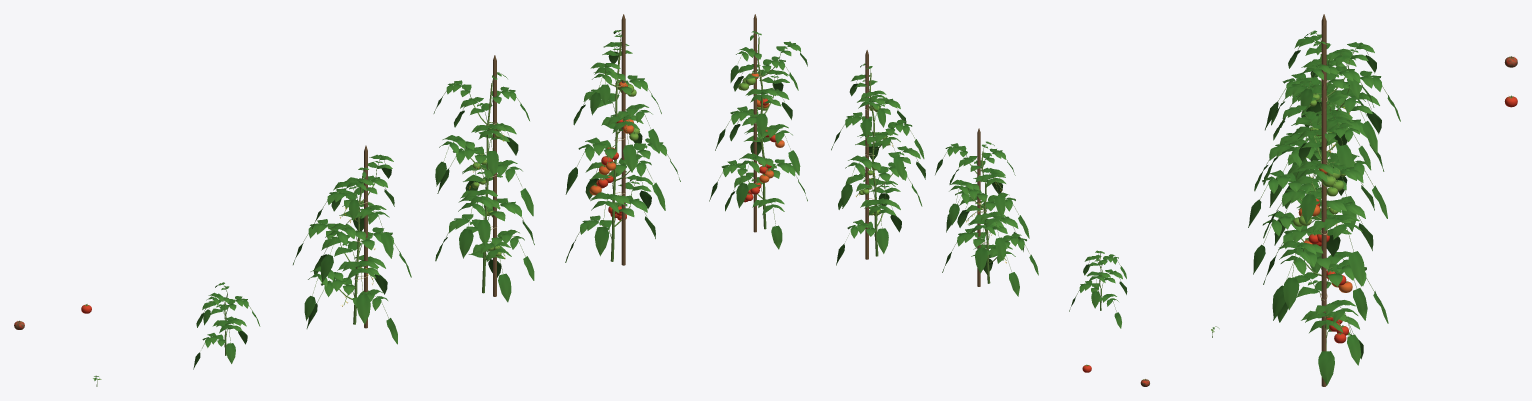
Rendered from fieldworks_tomato.glb.
3 renders of one model, left to right at view 1: azimuth 30°, elevation 25°; view 2: azimuth 150°, elevation 25°; view 3: azimuth 270°, elevation 25°, orthographic. The views are drawn at different scales.
Parts seen in each view (by area): view 1: tomato_stage5_ripe, tomato_stage4_green_fruit, tomato_stage3_flowering, tomato_stage2_young_plant; view 2: tomato_stage5_ripe, tomato_stage4_green_fruit, tomato_stage3_flowering, tomato_stage2_young_plant; view 3: tomato_stage5_ripe, tomato_stage4_green_fruit, tomato_stage3_flowering, tomato_stage2_young_plant.
Part boxes in pixels (x1=…): tomato_stage5_ripe: x1=565, y1=14, x2=680, y2=265; tomato_stage4_green_fruit: x1=433, y1=55, x2=534, y2=302; tomato_stage3_flowering: x1=293, y1=145, x2=411, y2=344; tomato_stage2_young_plant: x1=193, y1=282, x2=260, y2=369; tomato_stage5_ripe: x1=709, y1=14, x2=807, y2=249; tomato_stage4_green_fruit: x1=831, y1=50, x2=925, y2=265; tomato_stage3_flowering: x1=935, y1=128, x2=1038, y2=296; tomato_stage2_young_plant: x1=1069, y1=250, x2=1127, y2=328; tomato_stage5_ripe: x1=1248, y1=83, x2=1388, y2=386; tomato_stage4_green_fruit: x1=1253, y1=19, x2=1387, y2=320; tomato_stage3_flowering: x1=1263, y1=14, x2=1400, y2=245; tomato_stage2_young_plant: x1=1280, y1=59, x2=1366, y2=149.
Size of the model in its own units: 4.28 by 1.82 by 1.44.
